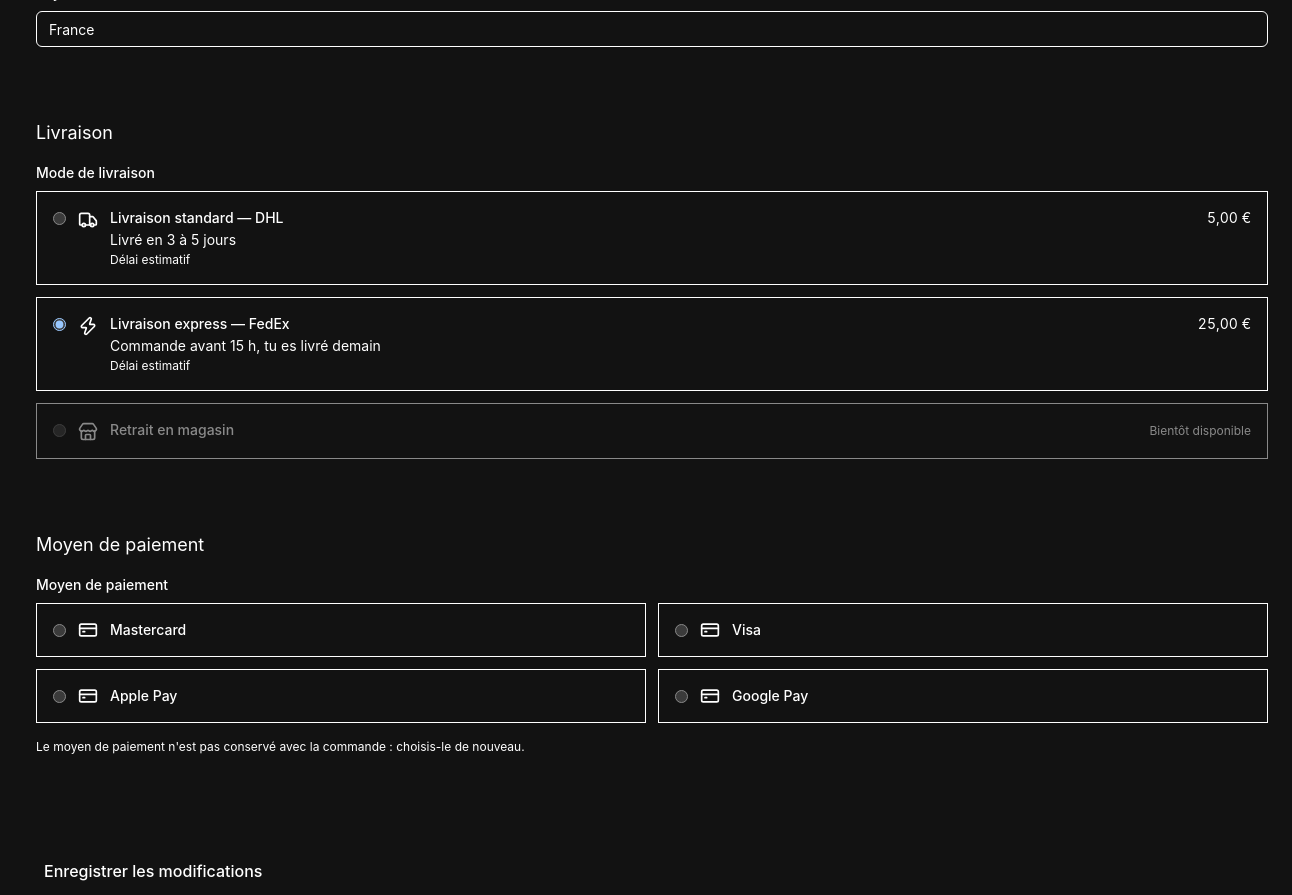
Scenario: OrderEditForm › flags only the line named by the backend, with what is left
This screenshot has width=1292, height=895.
(page scrolled)
Click the radio button labelled "Visa" at x=682, y=630, box [675, 624, 688, 636]
(page scrolled)
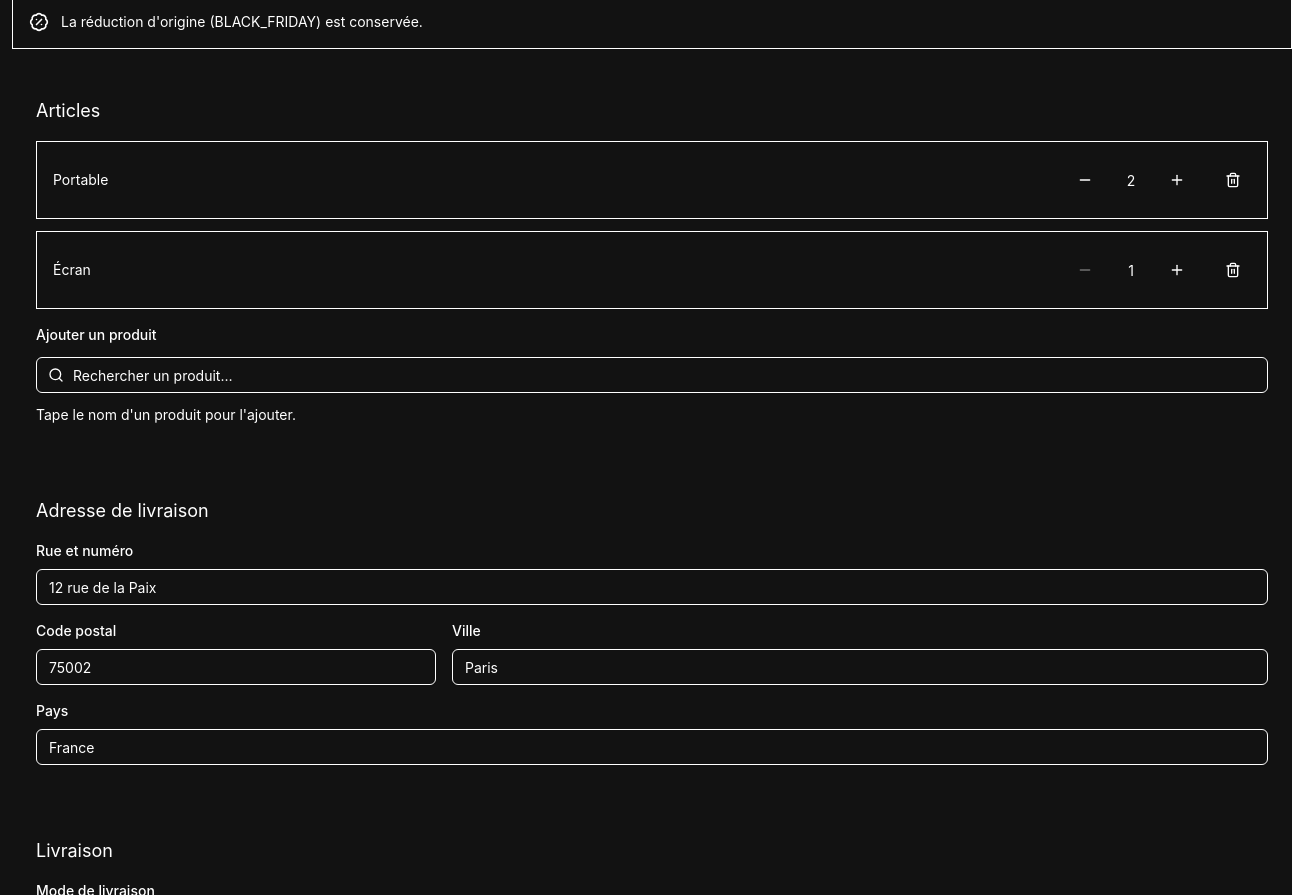
Click the button named "Ajouter une unité" in the row of "Portable" at x=1177, y=180, box [1159, 162, 1195, 198]
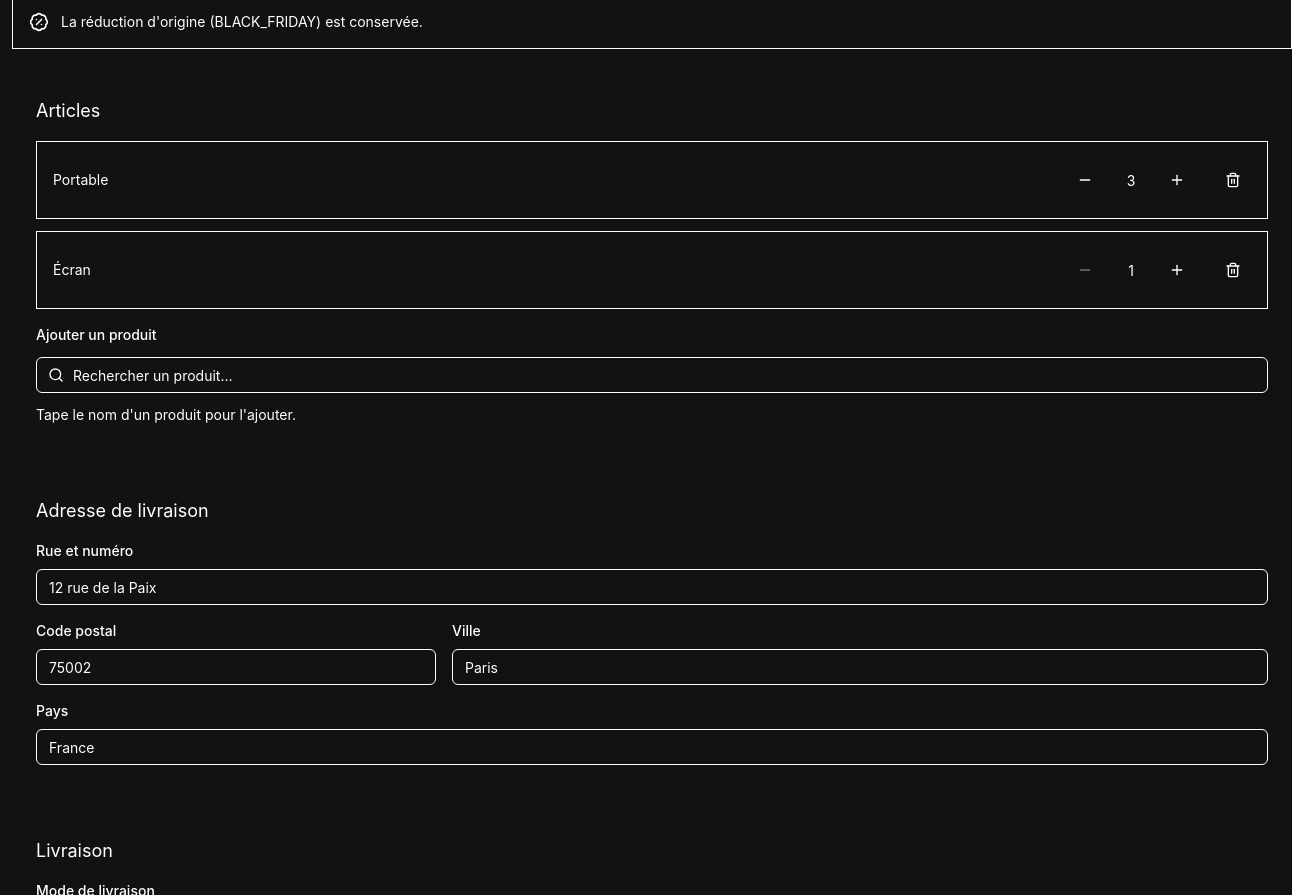
Click the button named "Ajouter une unité" in the row of "Écran" at x=1177, y=270, box [1159, 252, 1195, 288]
(page scrolled)
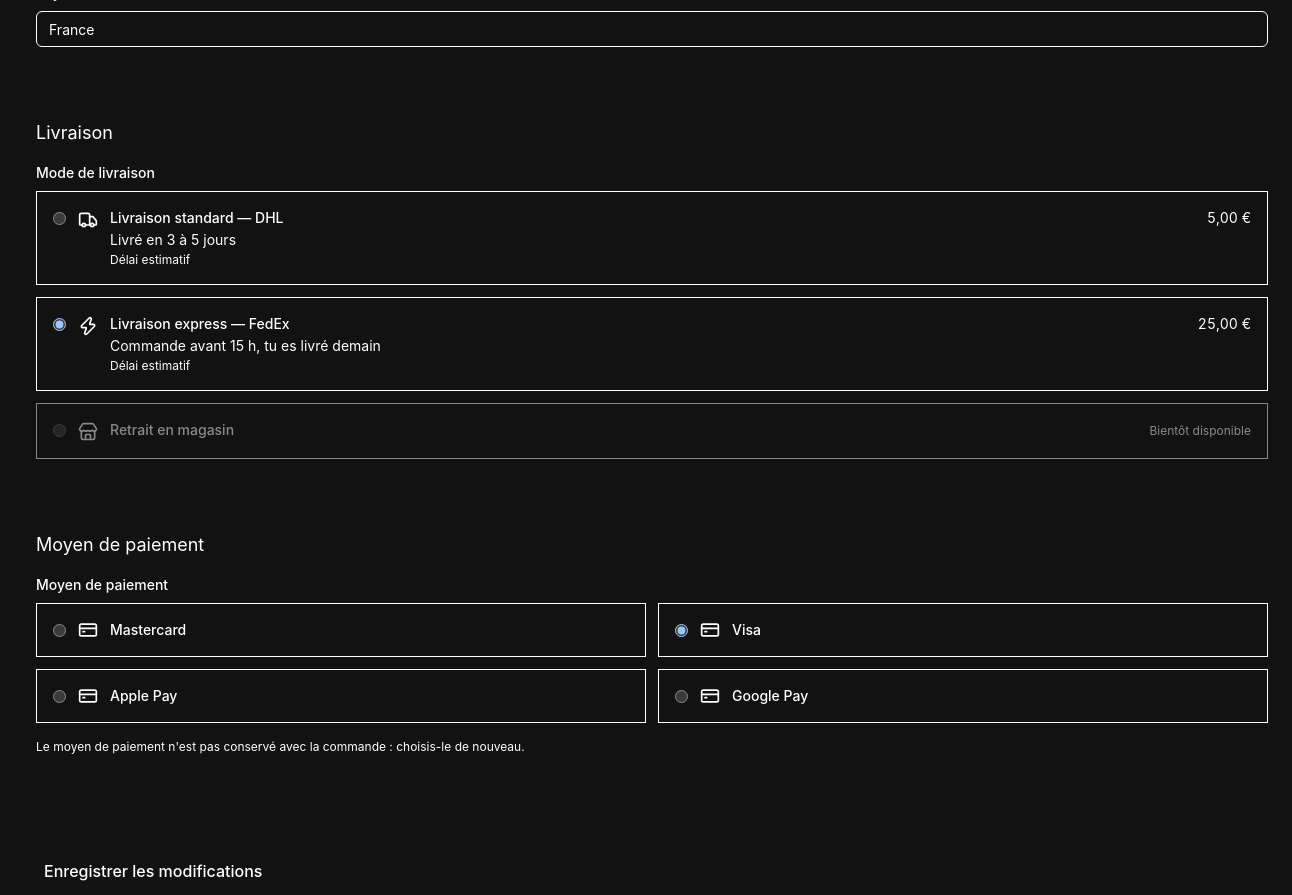
Click the button "Enregistrer les modifications" at x=153, y=871, box [12, 847, 294, 894]
(page scrolled)
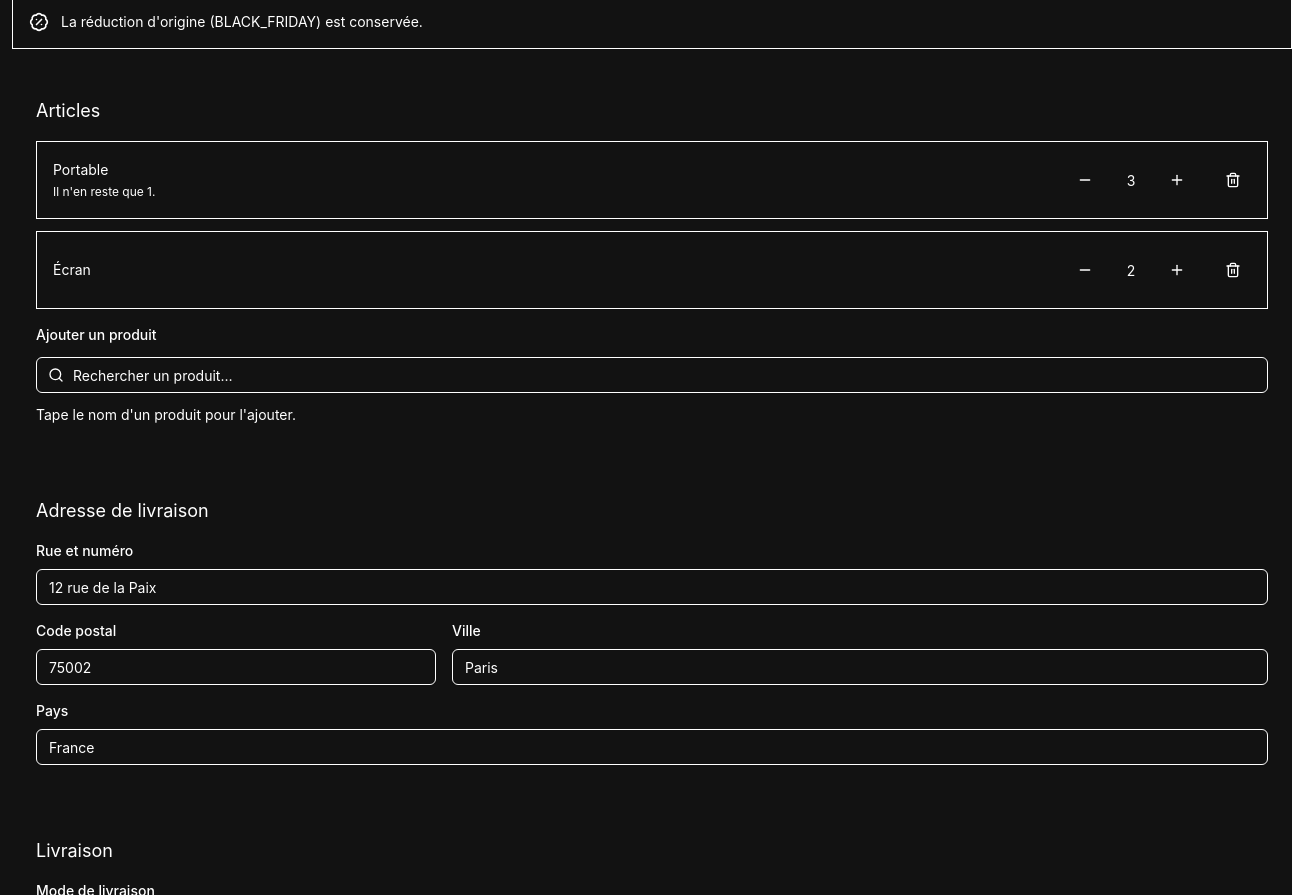
expect the text "Il n'en reste que 1." is shown: met, box [53, 184, 156, 199]
